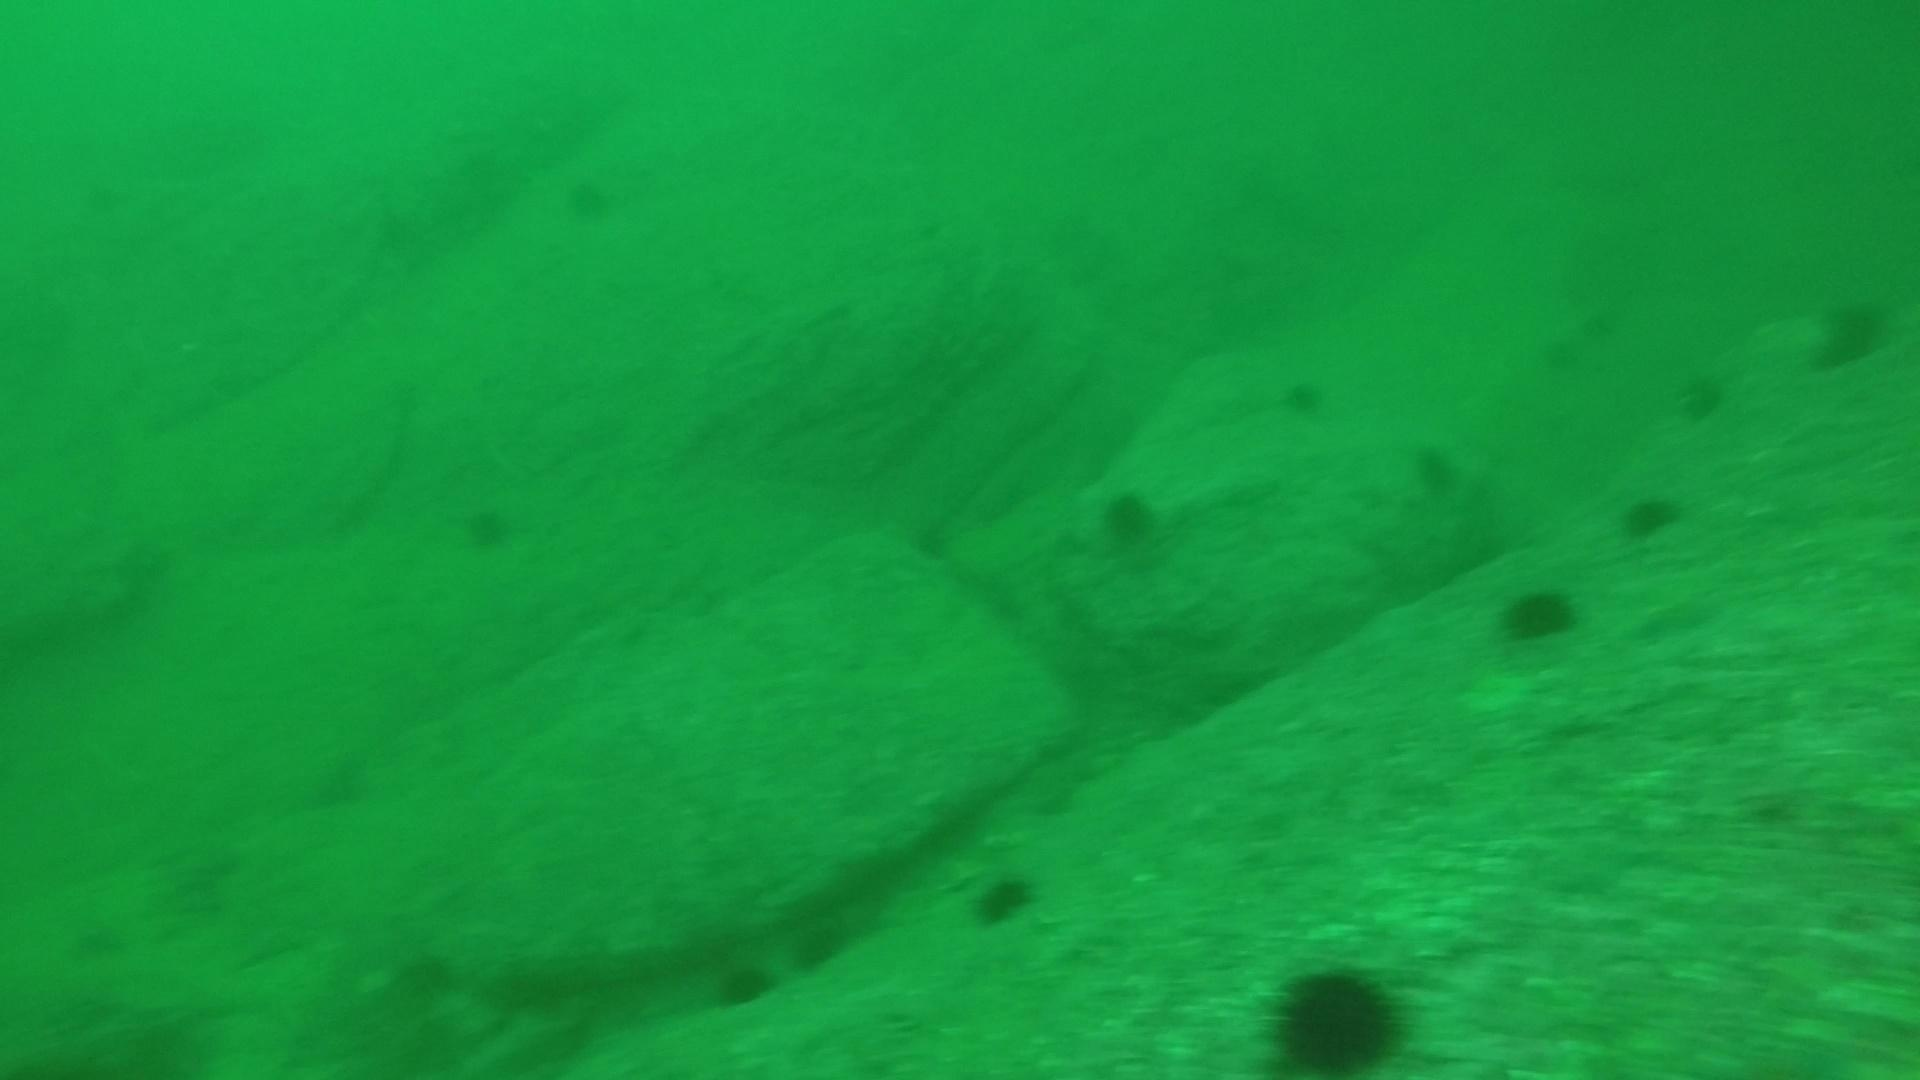echinus: (1263, 960, 1408, 1072), (1808, 291, 1894, 373), (1495, 580, 1582, 649), (1095, 483, 1164, 551), (967, 866, 1040, 931), (708, 953, 781, 1014), (786, 910, 852, 975), (1615, 487, 1685, 545), (1672, 365, 1731, 425), (559, 170, 620, 227), (1407, 438, 1464, 497), (1527, 326, 1584, 385), (1559, 307, 1615, 367), (903, 509, 960, 568), (458, 498, 518, 554), (1278, 372, 1331, 419)
